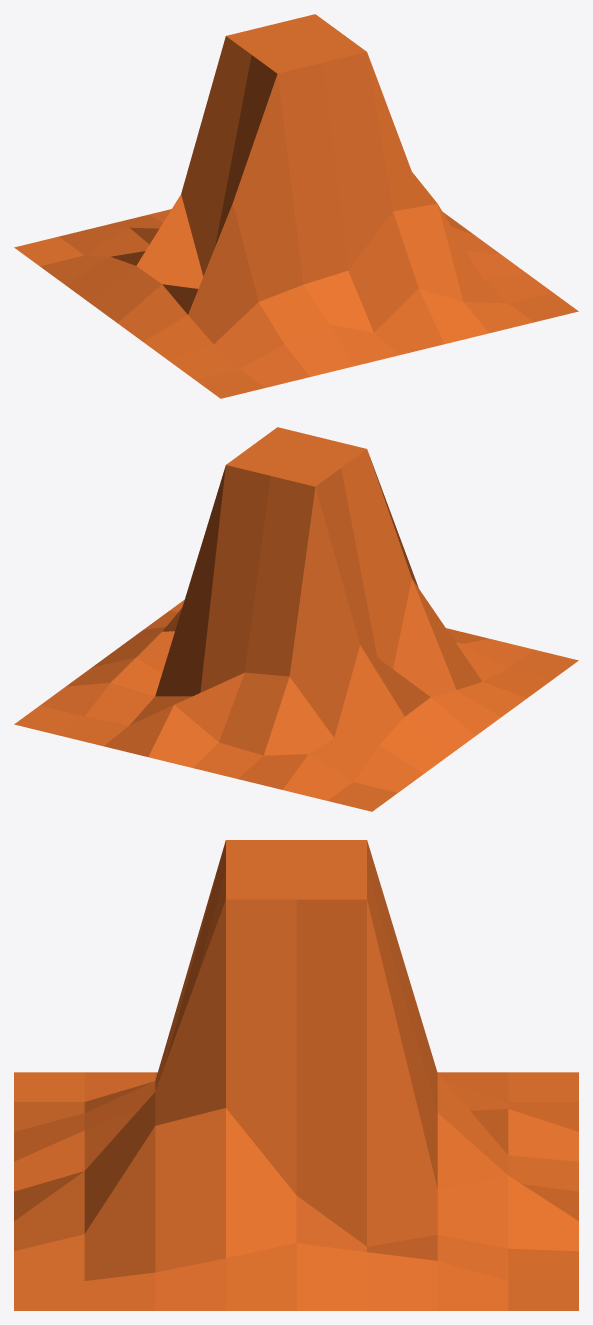
The model's file is mountain3.fbx.
3 views of the same model, one above another, from view 1: azimuth 30°, elevation 25°; view 2: azimuth 150°, elevation 25°; view 3: azimuth 270°, elevation 25° (orthographic). The views are drawn at different scales.
Parts seen in each view (by area): view 1: Plane; view 2: Plane; view 3: Plane.
Boxes of the visible parts, x1,y1,x2,y2 form: Plane: [14, 14, 578, 398]; Plane: [14, 427, 578, 811]; Plane: [14, 840, 578, 1310].
Bounding box in the file's own units: 400 × 251 × 400.
